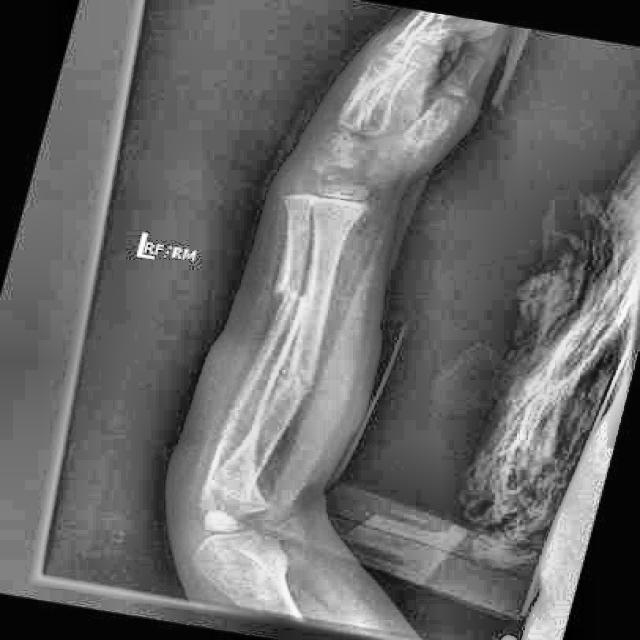forearm fracture: (241, 336, 342, 438), (249, 243, 328, 356)
